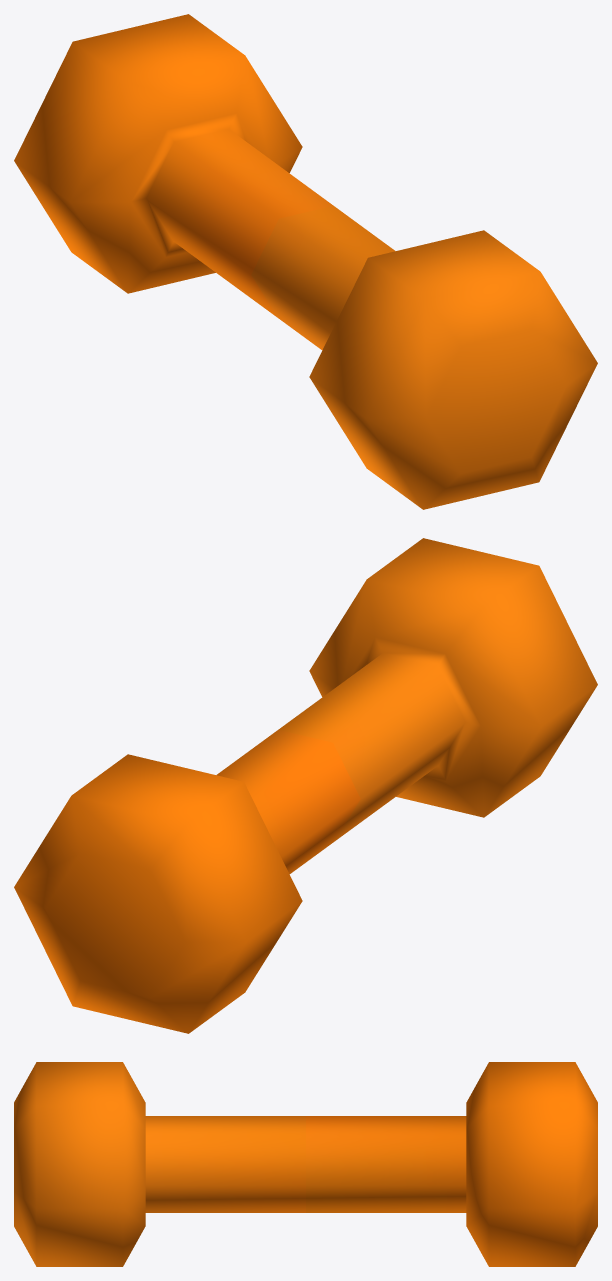
The model's file is DumbellSmall.glb.
3 views of the same model, one above another, from view 1: azimuth 30°, elevation 25°; view 2: azimuth 150°, elevation 25°; view 3: azimuth 270°, elevation 25° (orthographic). The views are drawn at different scales.
Visible parts, largest first — view 1: DumbellSmall; view 2: DumbellSmall; view 3: DumbellSmall.
Part boxes in pixels (bbox=[...]): DumbellSmall: bbox=[14, 14, 597, 509]; DumbellSmall: bbox=[14, 538, 597, 1033]; DumbellSmall: bbox=[14, 1062, 597, 1266].
Size of the model in its own units: 0.1023 by 0.0889 by 0.291.
Materials: 1 (1 with a texture image).
